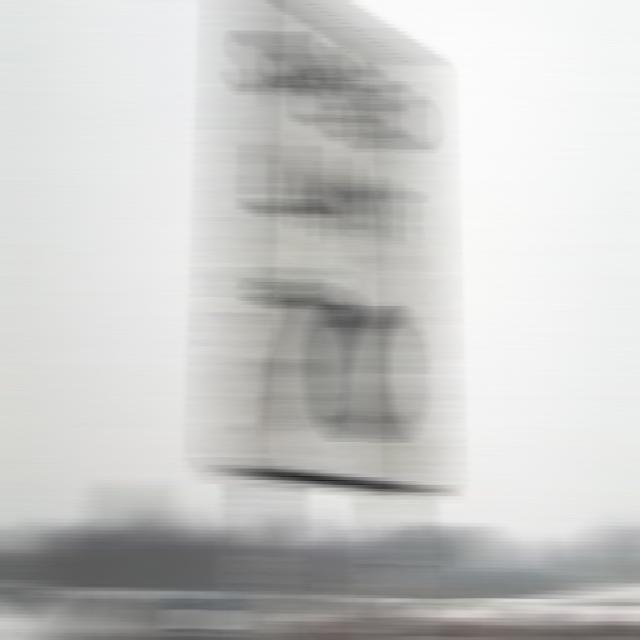speedLimit70: (199, 6, 439, 497)
